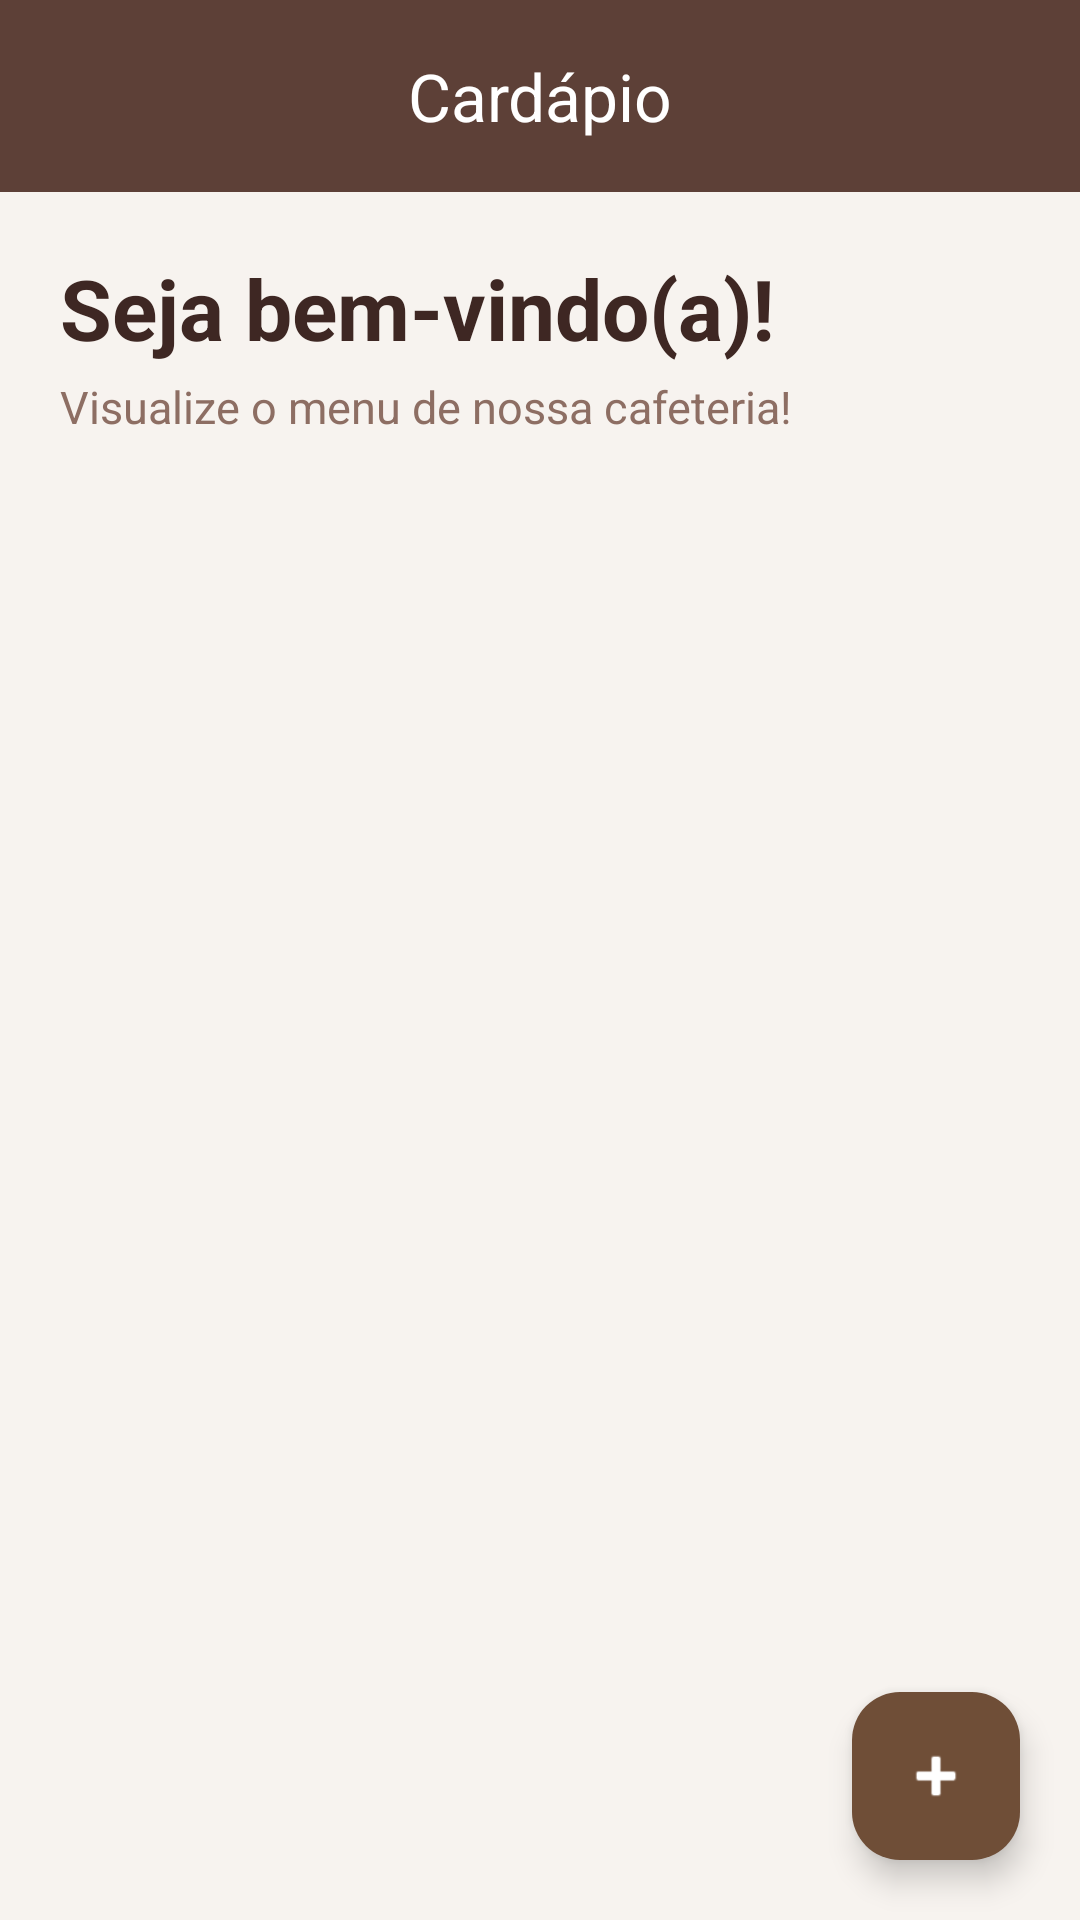

Where icons sit on this 1080w x 1920h app screen, as (x1=x1, y1=y1, x2=x2, y2=y2):
Adicionar produto: (x1=852, y1=1692, x2=1020, y2=1860)
